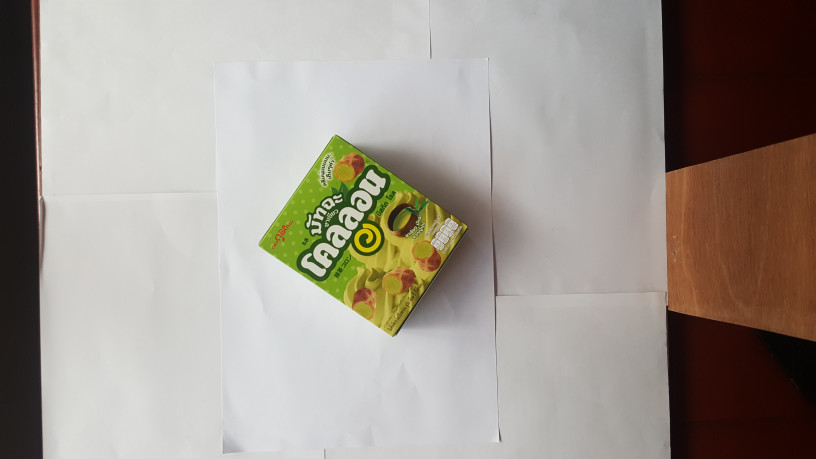collon-matcha: (255, 133, 470, 339)
